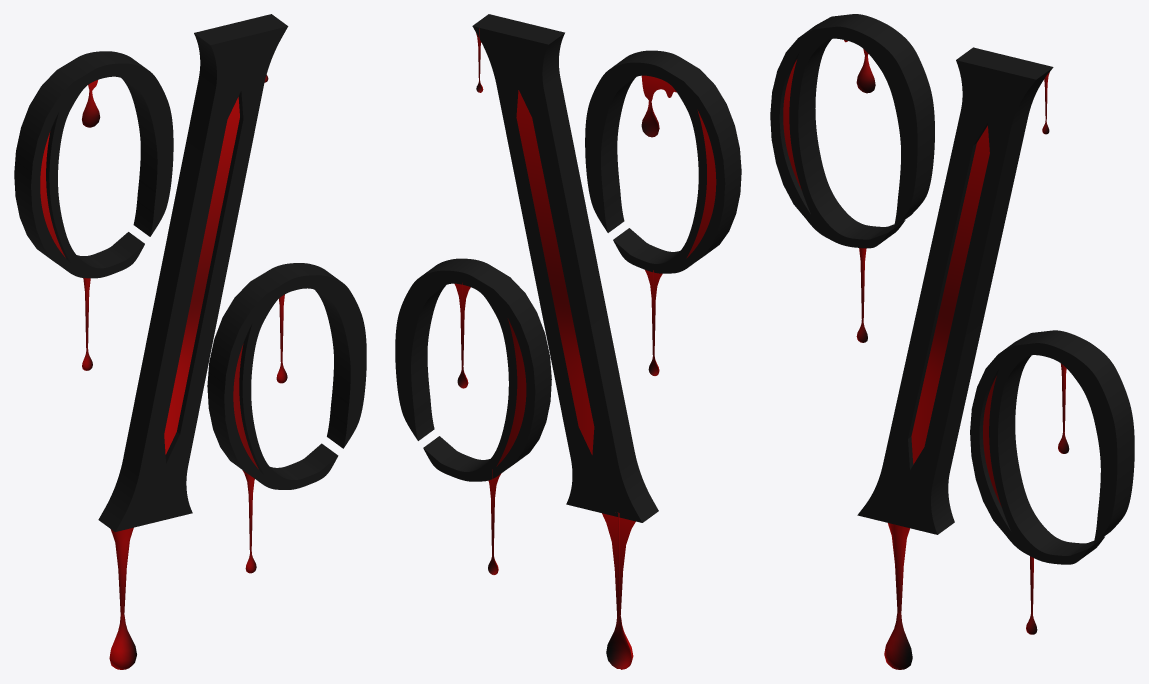
File: Interest.FBX
3 renders of one model, left to right at view 1: azimuth 30°, elevation 25°; view 2: azimuth 150°, elevation 25°; view 3: azimuth 330°, elevation 25°, orthographic. The views are drawn at different scales.
Visible parts, largest first — view 1: Interest, Interest_Element, Blood_151, Blood_152; view 2: Interest, Interest_Element, Blood_151, Blood_149, Blood_154, Blood_153, Blood_152; view 3: Interest, Interest_Element, Blood_151.
Boxes of the visible parts, box(x1,y1,x2,y2) form: Interest: box(14, 14, 366, 531); Interest_Element: box(40, 97, 258, 469); Blood_151: box(109, 527, 136, 669); Blood_152: box(242, 470, 256, 573); Interest: box(395, 14, 741, 522); Interest_Element: box(496, 90, 716, 466); Blood_151: box(602, 513, 635, 669); Blood_149: box(641, 75, 676, 137); Blood_154: box(645, 270, 662, 375); Blood_153: box(454, 283, 470, 388); Blood_152: box(488, 469, 501, 574); Interest: box(770, 14, 1134, 564); Interest_Element: box(783, 60, 1001, 506); Blood_151: box(884, 523, 912, 669).
Size of the model in its own units: 57.87 by 103 by 5.04.
Materials: 2 (1 with a texture image).
